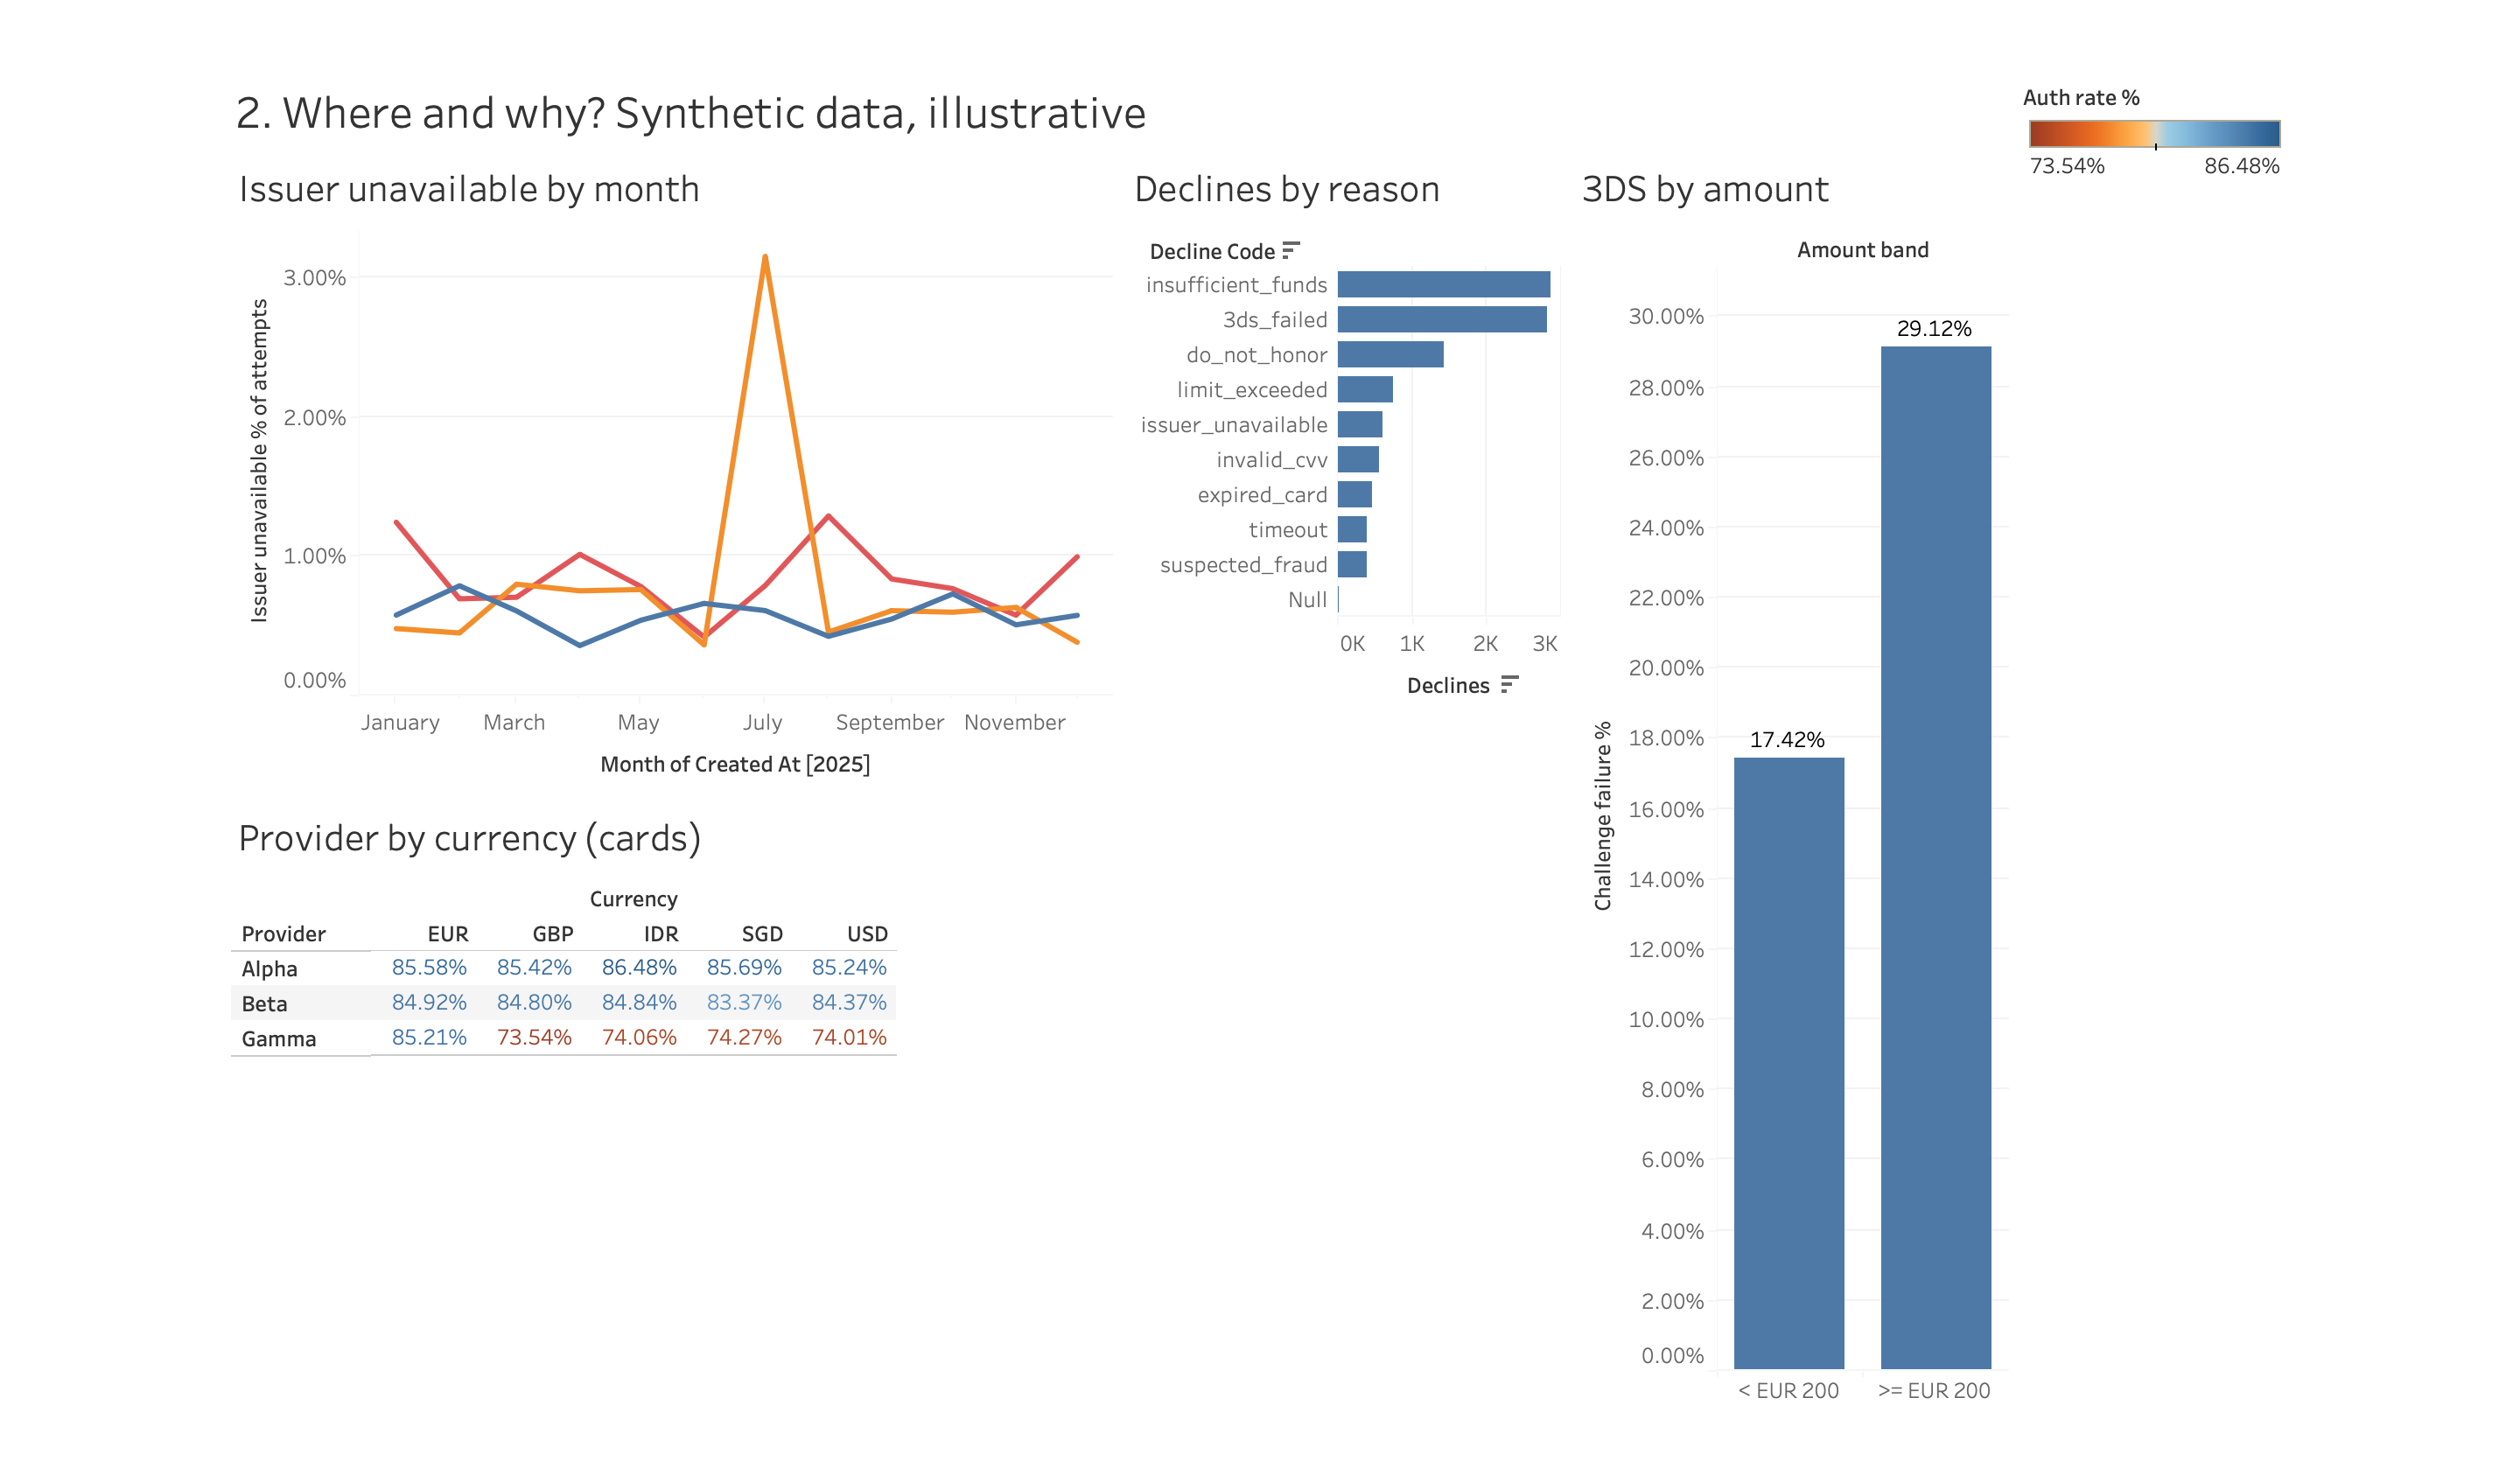

Layout of this report page (visuals, bound fields, positions):
{"tool":"tableau","page":{"name":"2. Where and why? Synthetic data, illustrative","canvas":[1200,800],"ordinal":1},"visuals":[{"type":"title","box":[8,8,1024,42]},{"type":"legend","title":"Provider by currency (cards)","param":"[federated.0o5fr041ixtg4312150rq0giquz7].[usr:Calculation_4166794988568579:qk]","box":[1032,8,160,65]},{"type":"worksheet","title":"Issuer unavailable by month","mark":"Automatic","rows":["Calculation_4166794988851209"],"cols":["created_at"],"box":[8,50,512,371]},{"type":"worksheet","title":"Declines by reason","mark":"Automatic","rows":["decline_code"],"cols":["Calculation_4166794988781576"],"box":[520,50,256,742]},{"type":"worksheet","title":"3DS by amount","mark":"Automatic","rows":["Calculation_4166794988912651"],"cols":["Calculation_4166794988941324"],"box":[776,50,256,742]},{"type":"worksheet","title":"Provider by currency (cards)","mark":"Automatic","rows":["provider"],"cols":["currency"],"box":[8,421,512,371]}]}

Visuals, with their boxes on the page's 1200x800 design canvas (x1, y1, x2, y2). These are canvas units, not pixel positions in the 2520x1461 screenshot, which may show the page scaled, cropped or inside an application window:
title: rect(8, 8, 1032, 50)
"Provider by currency (cards)" legend: rect(1032, 8, 1192, 73)
"Issuer unavailable by month" worksheet: rect(8, 50, 520, 421)
"Declines by reason" worksheet: rect(520, 50, 776, 792)
"3DS by amount" worksheet: rect(776, 50, 1032, 792)
"Provider by currency (cards)" worksheet: rect(8, 421, 520, 792)
